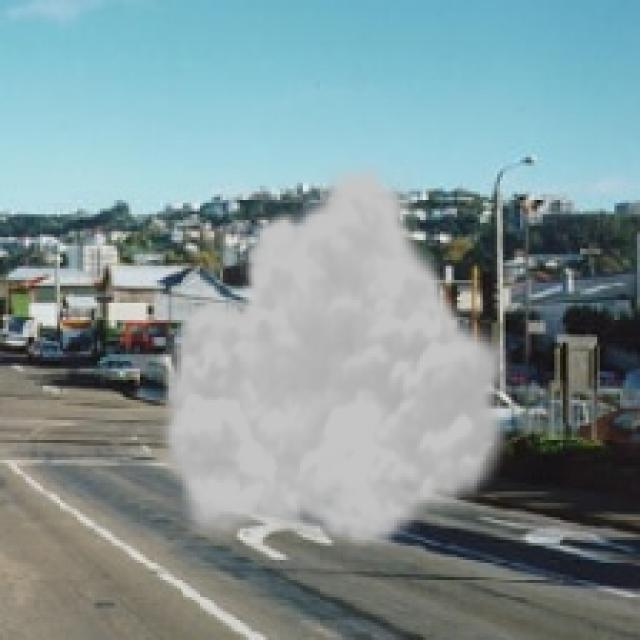smoke: (154, 154, 520, 552)
